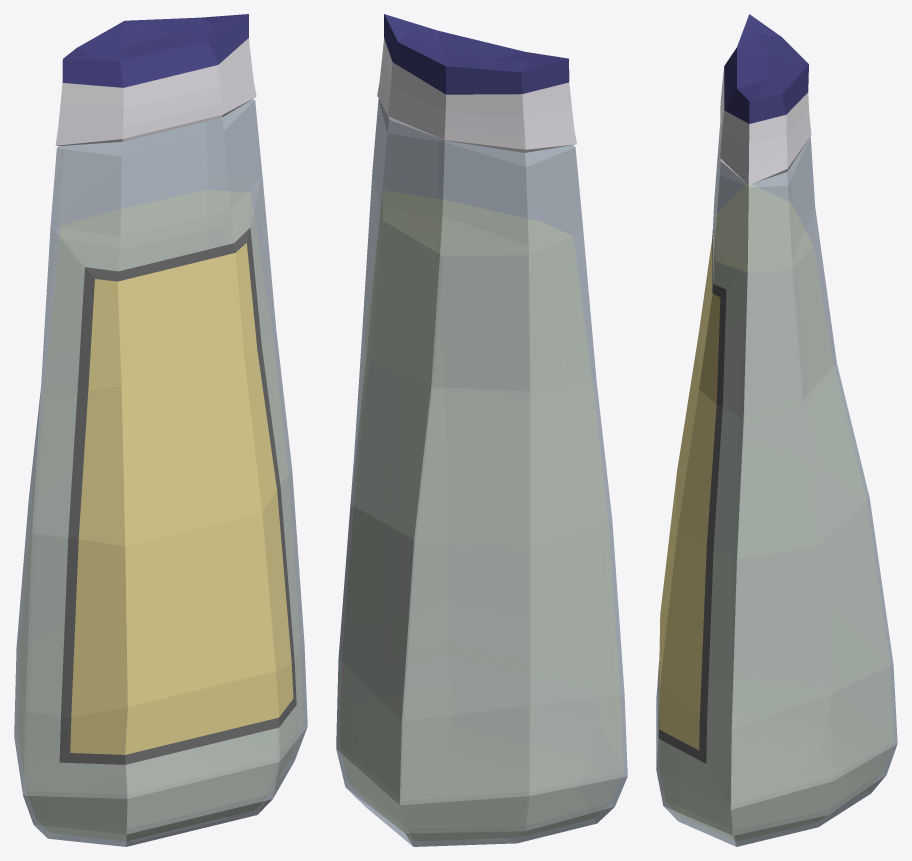
The model's file is Body wash.fbx.
3 views of the same model, side by side, from view 1: azimuth 30°, elevation 25°; view 2: azimuth 150°, elevation 25°; view 3: azimuth 270°, elevation 25° (orthographic). The views are drawn at different scales.
Visible parts, largest first — view 1: BodyWash; view 2: BodyWash; view 3: BodyWash.
Boxes of the visible parts, <box> form: BodyWash: <box>14,14,307,846</box>; BodyWash: <box>336,14,627,846</box>; BodyWash: <box>656,14,897,846</box>.
Size of the model in its own units: 8.17 by 21.31 by 6.27.
